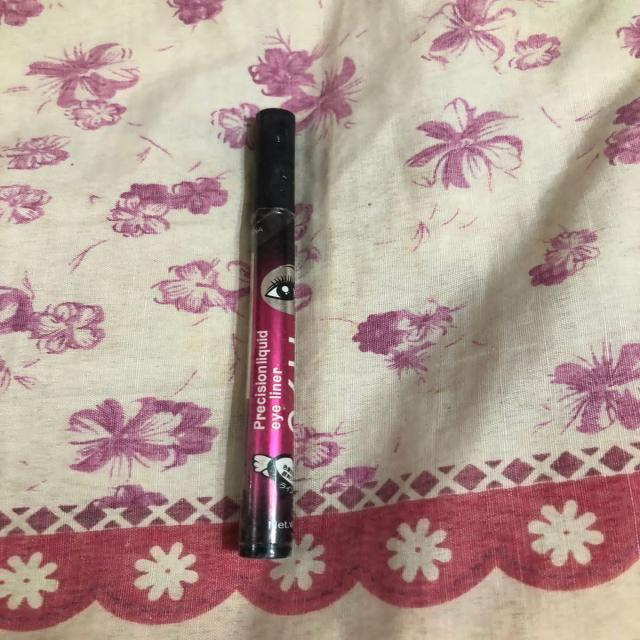eye liner: (238, 99, 320, 589)
